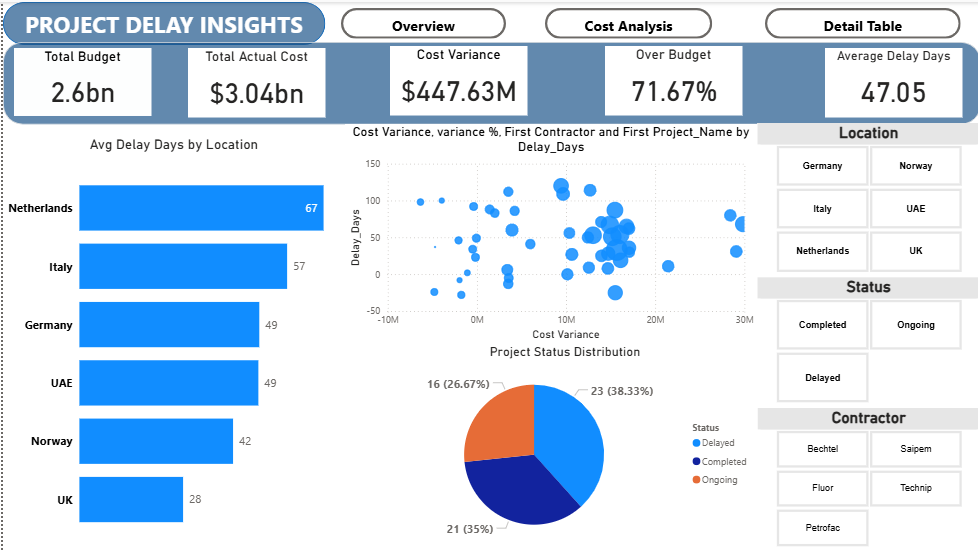

The page's visual inventory and layout, read from the dashboard file:
{"tool":"powerbi","page":{"name":"Delay Analysis","canvas":[1280,720],"ordinal":2},"visuals":[{"type":"shape","box":[0,51.8,1280,108],"z":0,"group":"g1"},{"type":"barChart","fields":{"Category":["enhanced_engineering_dataset.Location"],"Y":["enhanced_engineering_dataset.Avg Delay Days"]},"box":[0,175.7,447.8,542.9],"z":0},{"type":"shape","box":[0,0,421.9,56.2],"z":1000},{"type":"card","title":"Total Budget","fields":{"Values":["enhanced_engineering_dataset.Total Budget"]},"box":[14.4,59,180,89.3],"z":1000,"group":"g1"},{"type":"group","id":"g1","title":"Group 1","box":[0,51.8,1280,108],"z":2000},{"type":"card","title":"Total Actual Cost","fields":{"Values":["enhanced_engineering_dataset.Total Actual Cost"]},"box":[241.9,59,180,90.7],"z":2000,"group":"g1"},{"type":"actionButton","title":"Overview","box":[442.1,7.2,216,40.3],"z":3000},{"type":"card","title":"Cost Variance","fields":{"Values":["enhanced_engineering_dataset.Cost Variance"]},"box":[506.9,57.6,180,90.7],"z":3000,"group":"g1"},{"type":"actionButton","title":"Overview","box":[709.9,7.2,218.9,40.3],"z":4000},{"type":"card","title":"Average Delay Days","fields":{"Values":["enhanced_engineering_dataset.Avg Delay Days"]},"box":[1075.7,59,180,90.7],"z":4000,"group":"g1"},{"type":"actionButton","title":"Overview","box":[997.9,7.2,256.3,40.3],"z":5000},{"type":"card","title":"Over Budget","fields":{"Values":["enhanced_engineering_dataset.Over Budget %"]},"box":[787.7,57.6,180,90.7],"z":5000,"group":"g1"},{"type":"group","id":"g2","title":"Group 2","box":[987.5,158.4,292.5,560.7],"z":6000},{"type":"scatterChart","fields":{"X":["enhanced_engineering_dataset.Cost Variance"],"Y":["enhanced_engineering_dataset.Delay_Days"],"Size":["enhanced_engineering_dataset.variance %"]},"box":[447.8,159.8,540,288],"z":7000},{"type":"pieChart","title":"Project Status Distribution","fields":{"Category":["enhanced_engineering_dataset.Status"],"Y":["CountNonNull(enhanced_engineering_dataset.Project_ID)"]},"box":[482.4,447.8,505.4,270.7],"z":8000},{"type":"slicer","title":"Status","fields":{"Values":["enhanced_engineering_dataset.Status"]},"box":[987.5,359.8,292.4,171.5],"z":9000,"group":"g2"},{"type":"slicer","title":"Contractor","fields":{"Values":["enhanced_engineering_dataset.Contractor"]},"box":[987.5,531.2,292.5,187.9],"z":10000,"group":"g2"},{"type":"slicer","title":"Location","fields":{"Values":["enhanced_engineering_dataset.Location"]},"box":[987.6,158.4,292.3,201.6],"z":11000,"group":"g2"}]}

Visuals, with their boxes in screenshot pixels (x1, y1, x2, y2), scaled from the page's 1280x720 canvas onto the 978x552 screenshot:
shape: pyautogui.locateOnScreen(0, 40, 977, 123)
barChart - enhanced_engineering_dataset.Location x enhanced_engineering_dataset.Avg Delay Days: pyautogui.locateOnScreen(0, 135, 342, 551)
shape: pyautogui.locateOnScreen(0, 0, 322, 43)
"Total Budget" card: pyautogui.locateOnScreen(11, 45, 149, 114)
"Group 1" group: pyautogui.locateOnScreen(0, 40, 977, 123)
"Total Actual Cost" card: pyautogui.locateOnScreen(185, 45, 322, 115)
"Overview" actionButton: pyautogui.locateOnScreen(338, 6, 503, 36)
"Cost Variance" card: pyautogui.locateOnScreen(387, 44, 525, 114)
"Overview" actionButton: pyautogui.locateOnScreen(542, 6, 710, 36)
"Average Delay Days" card: pyautogui.locateOnScreen(822, 45, 959, 115)
"Overview" actionButton: pyautogui.locateOnScreen(762, 6, 958, 36)
"Over Budget" card: pyautogui.locateOnScreen(602, 44, 739, 114)
"Group 2" group: pyautogui.locateOnScreen(755, 121, 977, 551)
scatterChart - enhanced_engineering_dataset.Cost Variance x enhanced_engineering_dataset.Delay_Days: pyautogui.locateOnScreen(342, 123, 755, 343)
"Project Status Distribution" pieChart: pyautogui.locateOnScreen(369, 343, 755, 551)
"Status" slicer: pyautogui.locateOnScreen(755, 276, 977, 407)
"Contractor" slicer: pyautogui.locateOnScreen(755, 407, 977, 551)
"Location" slicer: pyautogui.locateOnScreen(755, 121, 977, 276)
